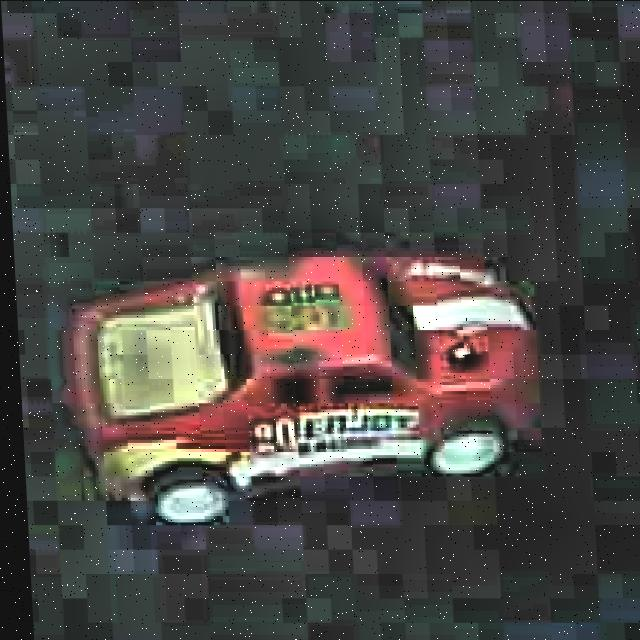car: (57, 238, 558, 524)
